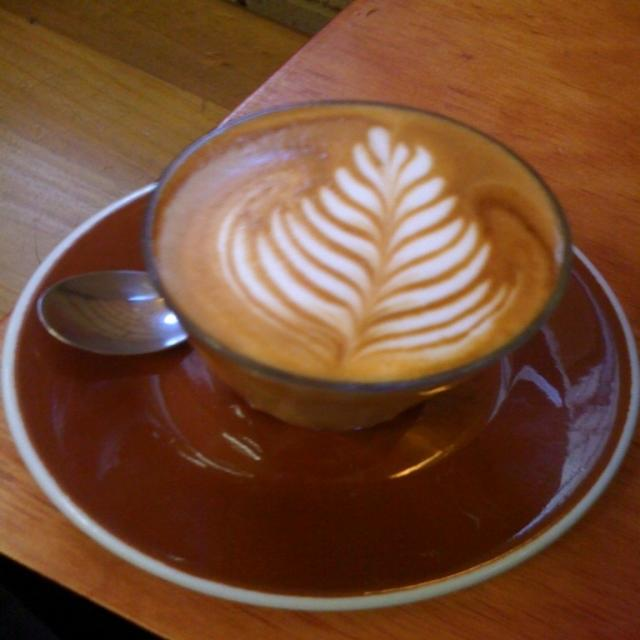Coffee: (154, 102, 565, 436)
